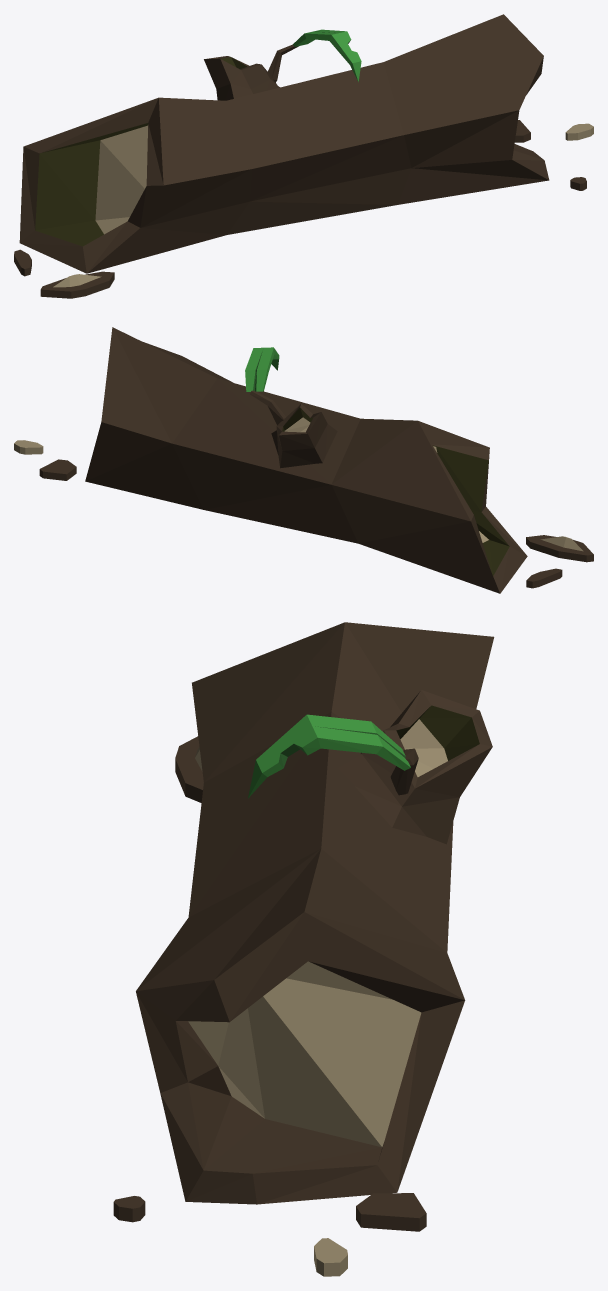
File: Tree_F_04.FBX
3 renders of one model, top to bottom at view 1: azimuth 30°, elevation 25°; view 2: azimuth 150°, elevation 25°; view 3: azimuth 270°, elevation 25°, orthographic. The views are drawn at different scales.
Visible parts, largest first — view 1: Tree_F_04; view 2: Tree_F_04; view 3: Tree_F_04.
Boxes of the visible parts, box(x1,y1,x2,y2) form: Tree_F_04: box(14, 14, 593, 298); Tree_F_04: box(14, 327, 593, 593); Tree_F_04: box(113, 622, 494, 1276).
Bounding box in the file's own units: 4.24 × 1.17 × 1.27.
